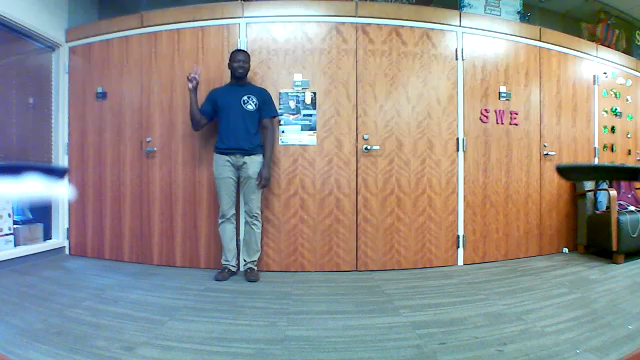peace: (181, 63, 208, 95)
